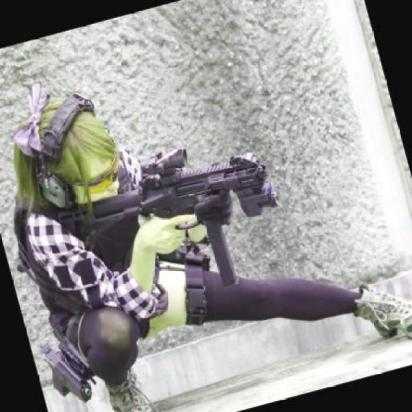Gun: (55, 156, 279, 280)
